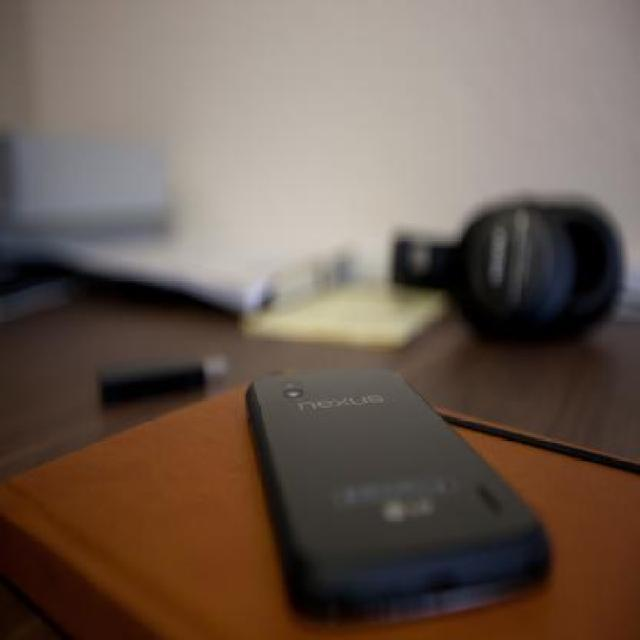earphone: (367, 218, 633, 328)
smart phone: (232, 343, 580, 620)
